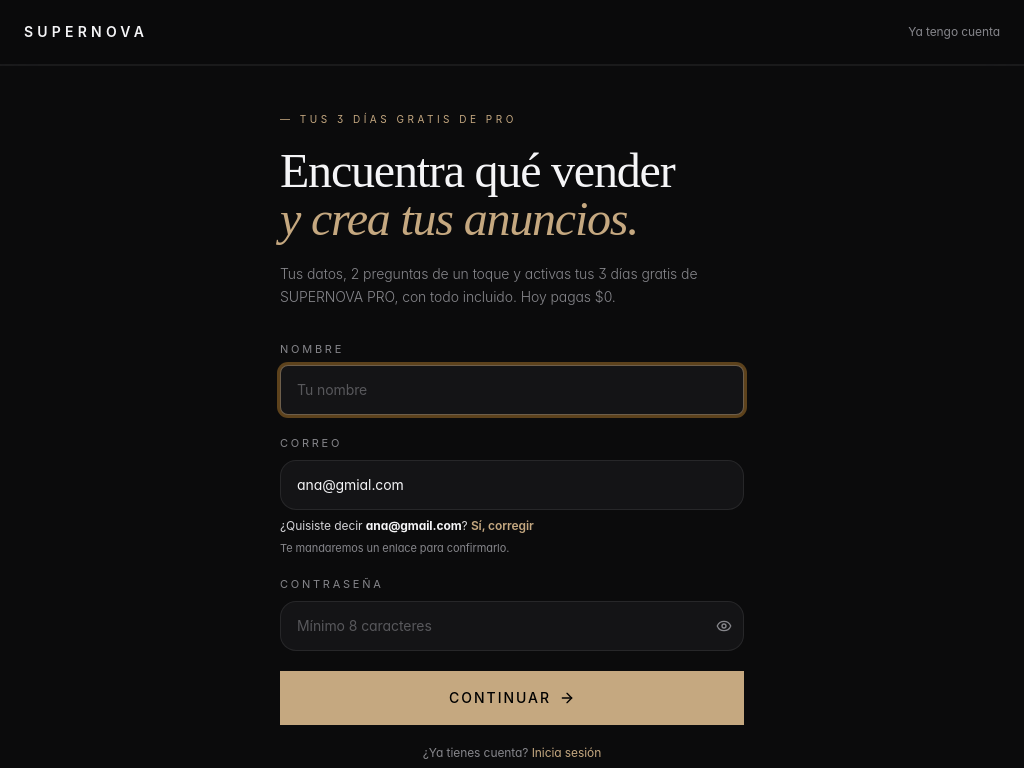
Scenario: SignupPage › propone corregir un correo mal escrito
Earlier steps of the test are not shown.
Click the button "Sí, corregir": (502, 526) [471,518,534,534]
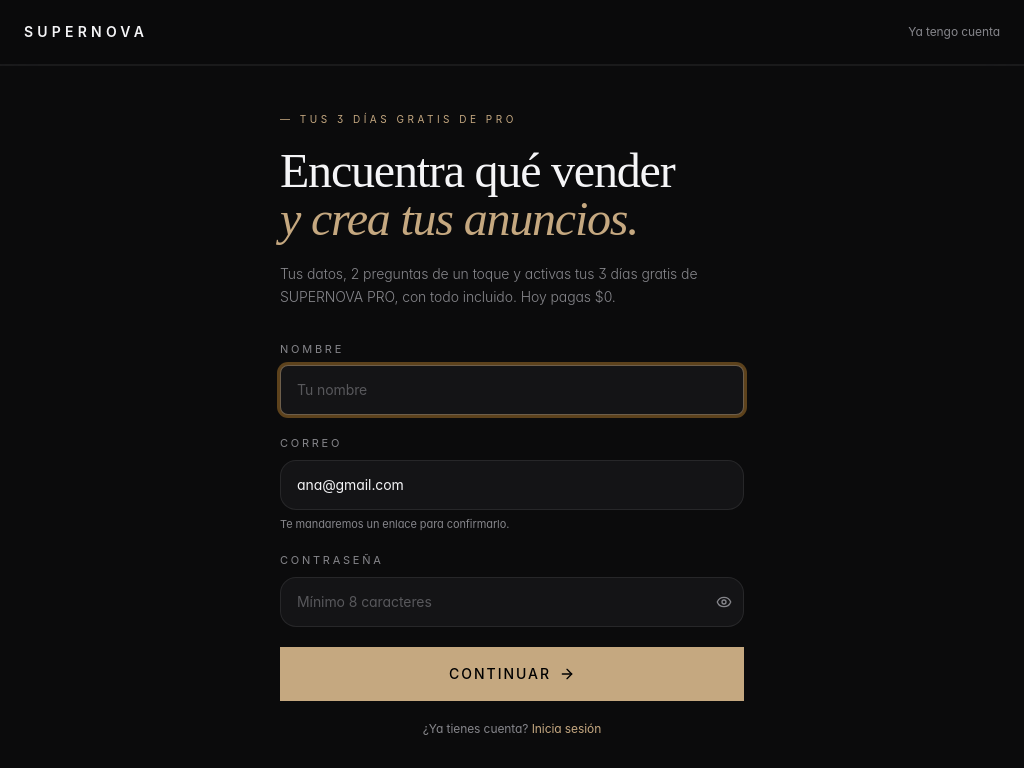
Expected: the field labelled "Correo" holds "ana@gmail.com", [280,460,744,510]
